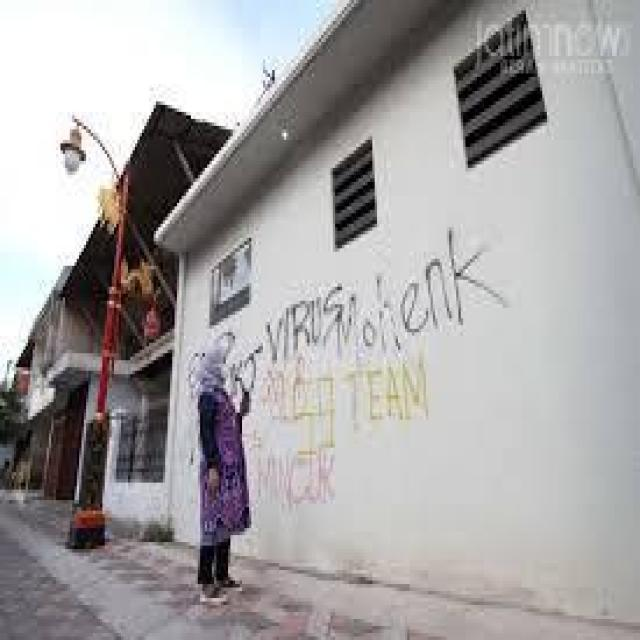nonspitting: (266, 227, 510, 360), (291, 360, 434, 462), (260, 448, 340, 512), (224, 332, 262, 392)
